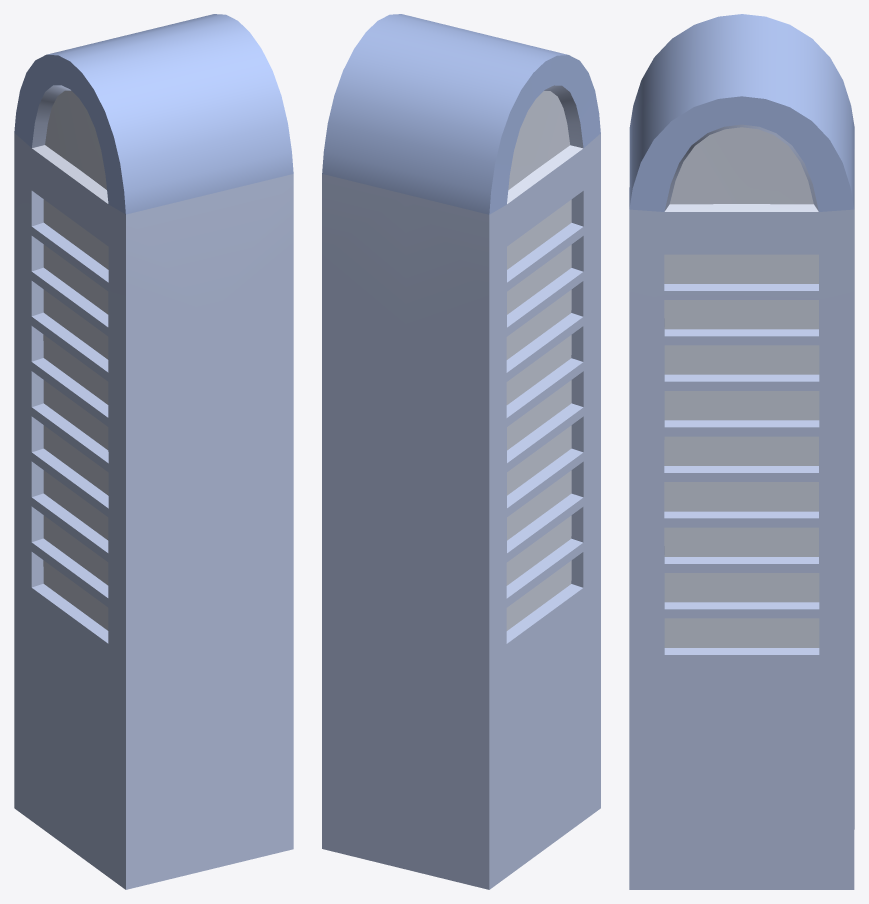
Rendered from house_2_mid.fbx.
3 renders of one model, left to right at view 1: azimuth 30°, elevation 25°; view 2: azimuth 150°, elevation 25°; view 3: azimuth 270°, elevation 25°, orthographic.
Parts seen in each view (by area): view 1: house_2_mid; view 2: house_2_mid; view 3: house_2_mid.
Part boxes in pixels (left/top/right/bottom): house_2_mid: left=14, top=14, right=293, bottom=889; house_2_mid: left=322, top=14, right=600, bottom=889; house_2_mid: left=629, top=14, right=854, bottom=889.
Bounding box in the file's own units: 45.72 × 205 × 52.8.
